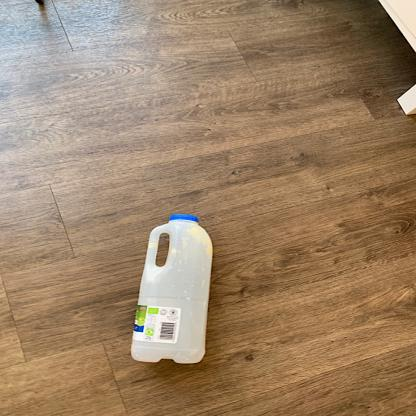trash: (127, 213, 216, 367)
